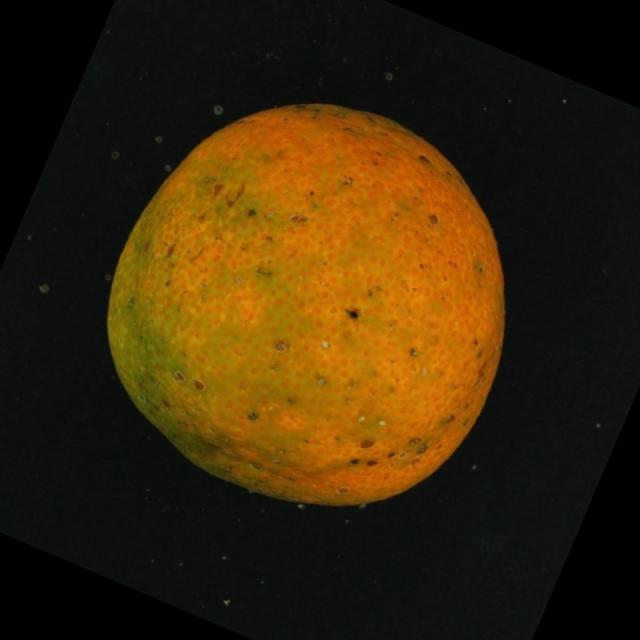grenning: (100, 84, 523, 519)
